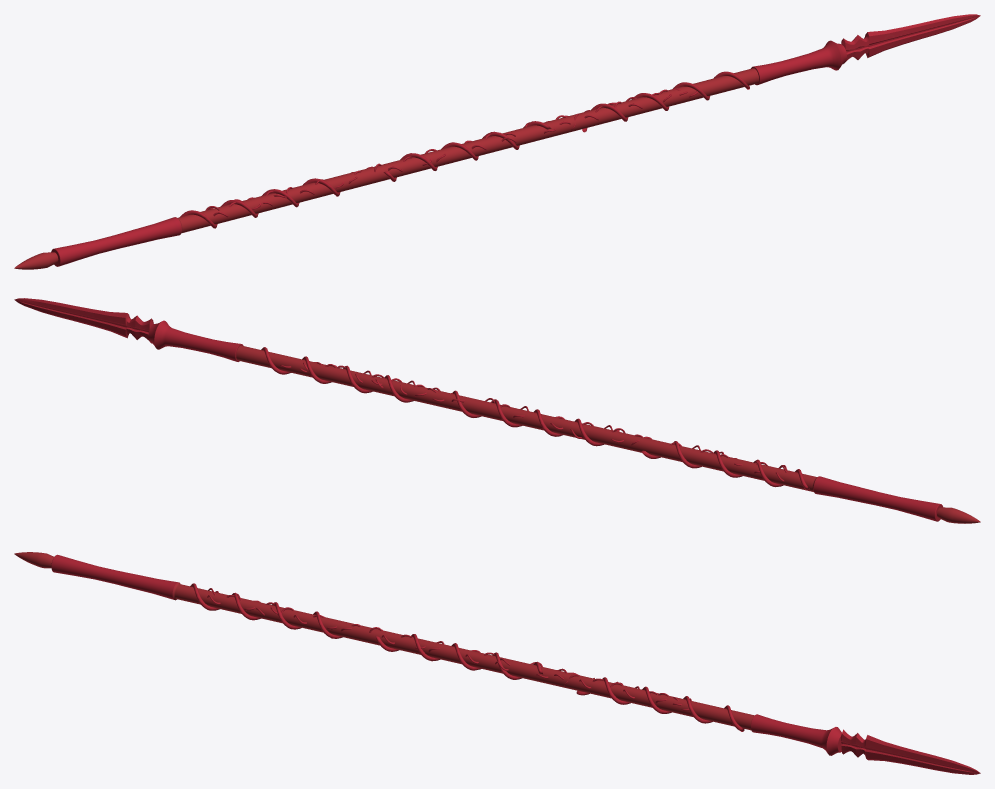
The model's file is gae_bolg.glb.
The picture shows the model from 3 angles, top to bottom: view 1: azimuth 30°, elevation 25°; view 2: azimuth 150°, elevation 25°; view 3: azimuth 330°, elevation 25°; orthographic projection. The views are drawn at different scales.
Visible parts, largest first — view 1: polySurface348; view 2: polySurface348; view 3: polySurface348.
Part boxes in pixels (<box>): polySurface348: <box>14,14,980,269</box>; polySurface348: <box>14,298,980,523</box>; polySurface348: <box>14,552,980,774</box>.
Size of the model in its own units: 17.73 by 0.4969 by 0.7871.
Materials: 1 (1 with a texture image).
